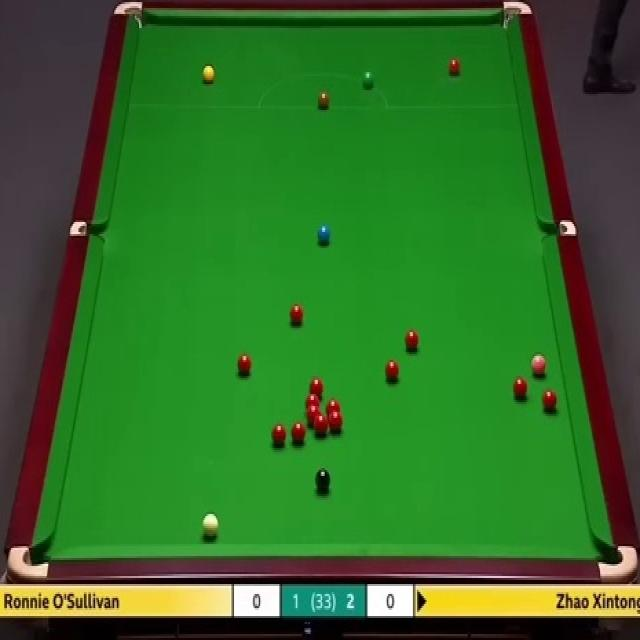black-ball: (315, 466, 331, 496)
blue-ball: (316, 224, 332, 246)
brown-ball: (317, 90, 330, 110)
green-ball: (361, 69, 374, 89)
pink-ball: (531, 352, 547, 378)
red-ball: (290, 420, 307, 448), (236, 352, 253, 379), (514, 376, 530, 401), (542, 389, 559, 412), (270, 422, 286, 446), (328, 410, 343, 435), (384, 359, 399, 384), (405, 328, 420, 352), (289, 304, 304, 326), (314, 413, 328, 435), (308, 377, 324, 394), (306, 406, 320, 424), (306, 392, 320, 408), (449, 60, 461, 76), (326, 401, 340, 414)
white-ball: (201, 513, 219, 542)
yellow-ball: (203, 65, 216, 86)
